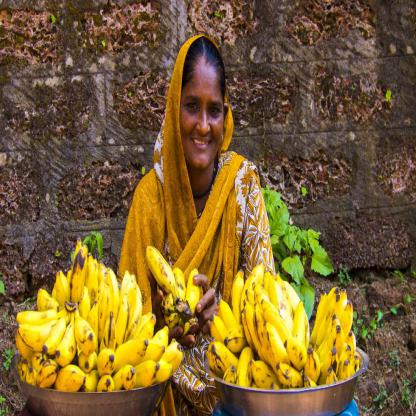Banana: (15, 243, 166, 380), (209, 263, 360, 386), (144, 246, 201, 334)
